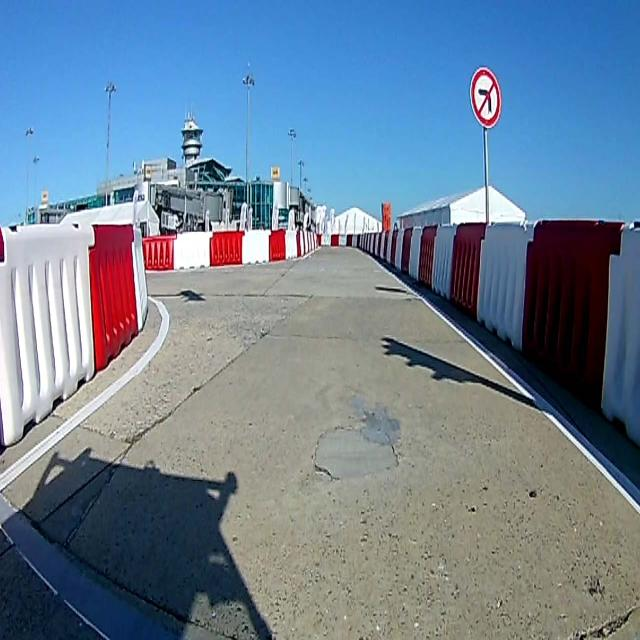soladonulmez: (470, 69, 500, 127)
